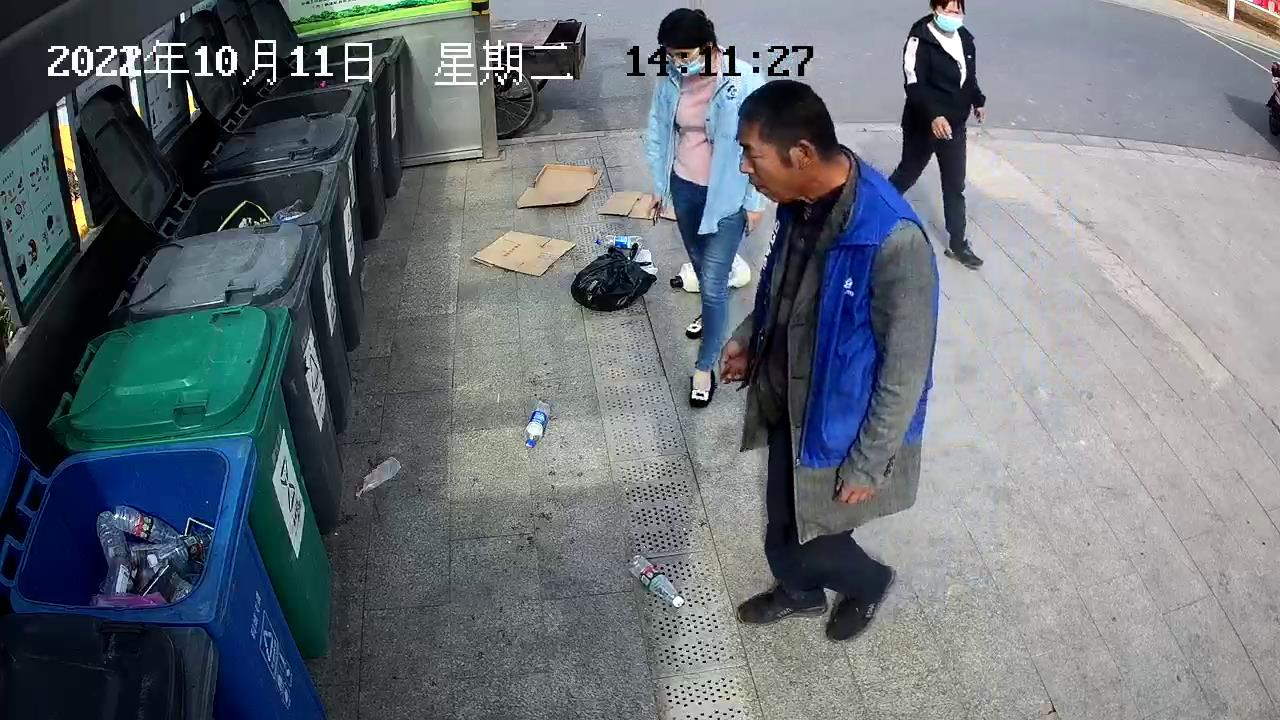garbage-bag: (567, 242, 660, 314)
person: (883, 1, 989, 271)
suliaozhipin: (625, 553, 686, 609), (352, 455, 403, 498), (522, 398, 552, 449), (590, 230, 645, 252)
worker: (718, 79, 942, 644), (643, 6, 767, 408)
zhizhipin: (469, 229, 578, 278), (513, 161, 604, 208), (597, 187, 674, 225)
